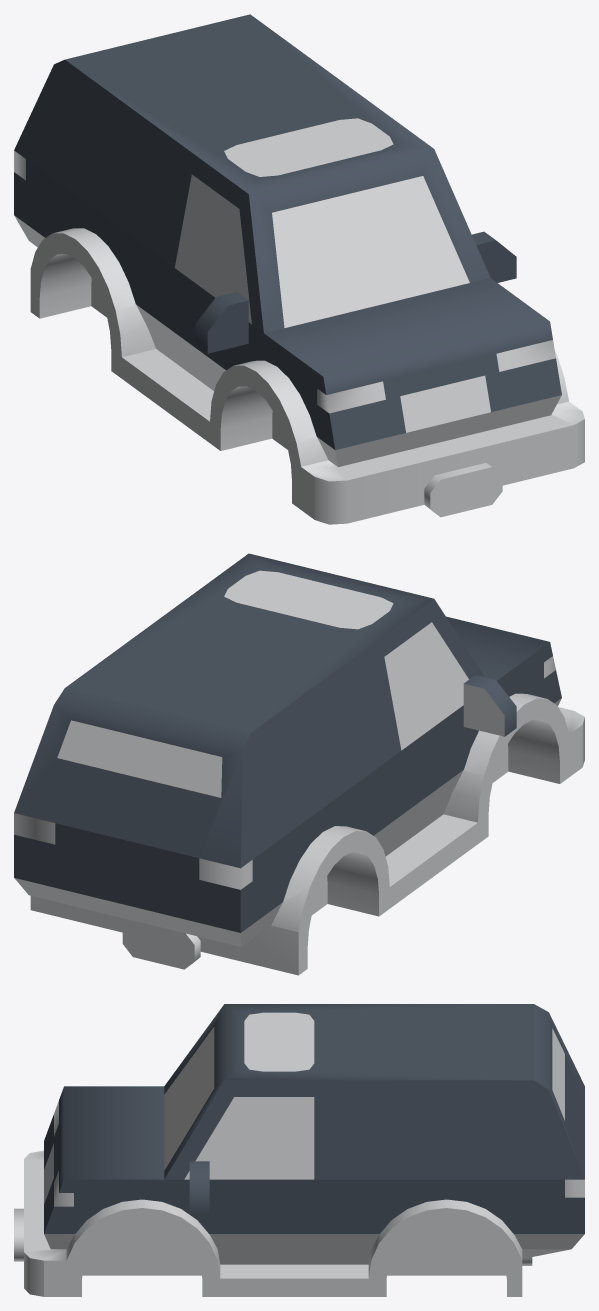
Rendered from apex-suv.glb.
3 renders of one model, top to bottom at view 1: azimuth 30°, elevation 25°; view 2: azimuth 150°, elevation 25°; view 3: azimuth 270°, elevation 25°, orthographic. The views are drawn at different scales.
Parts seen in each view (by area): view 1: body; view 2: body; view 3: body.
Boxes of the visible parts, x1,y1,x2,y2 form: body: (14,14,584,524); body: (14,553,584,975); body: (14,1004,584,1296).
Size of the model in its own units: 1.5 by 1.17 by 2.85.
